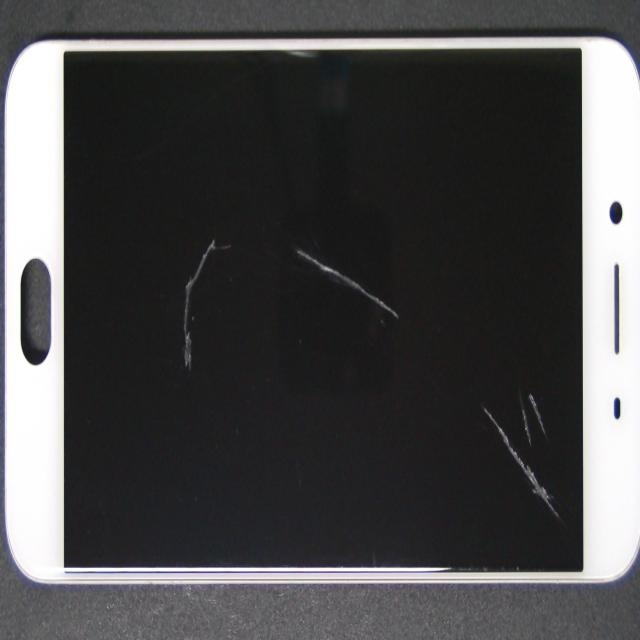scratch: (254, 175, 640, 619), (256, 168, 640, 606), (262, 207, 558, 433), (110, 151, 323, 390)
